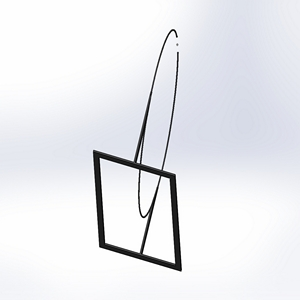circle: (91, 25, 186, 273)
